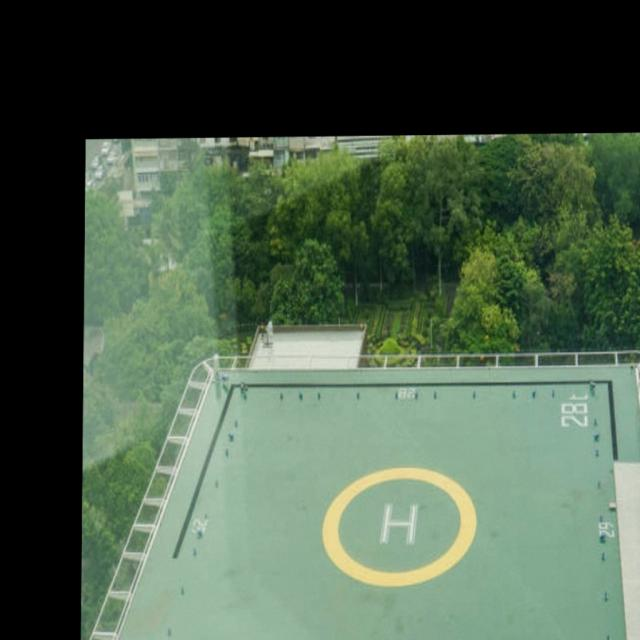helipad: (318, 462, 480, 590)
